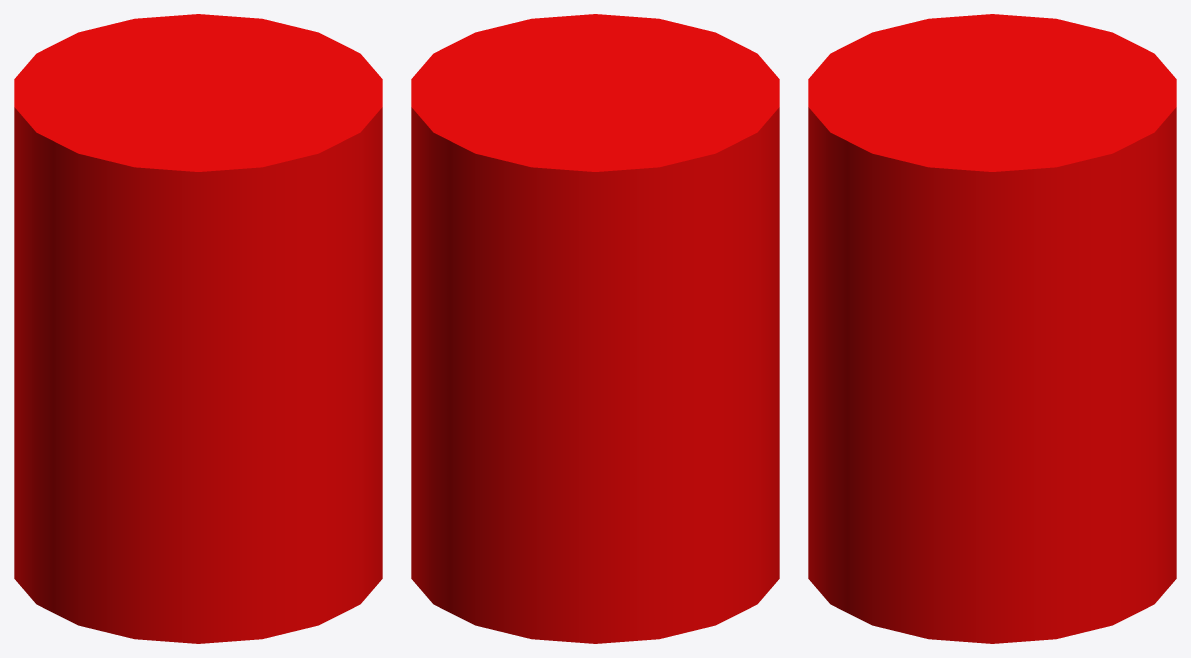
File: ExplorationRocket.FBX
The picture shows the model from 3 angles, left to right: view 1: azimuth 30°, elevation 25°; view 2: azimuth 150°, elevation 25°; view 3: azimuth 270°, elevation 25°; orthographic projection.
Parts seen in each view (by area): view 1: Cylinder001; view 2: Cylinder001; view 3: Cylinder001.
Part boxes in pixels (box(x1,y1,x2,y2)): Cylinder001: box(14, 14, 382, 643); Cylinder001: box(411, 14, 779, 643); Cylinder001: box(808, 14, 1176, 643).
Size of the model in its own units: 213 by 296 by 209.
1 material, 1 textured.
